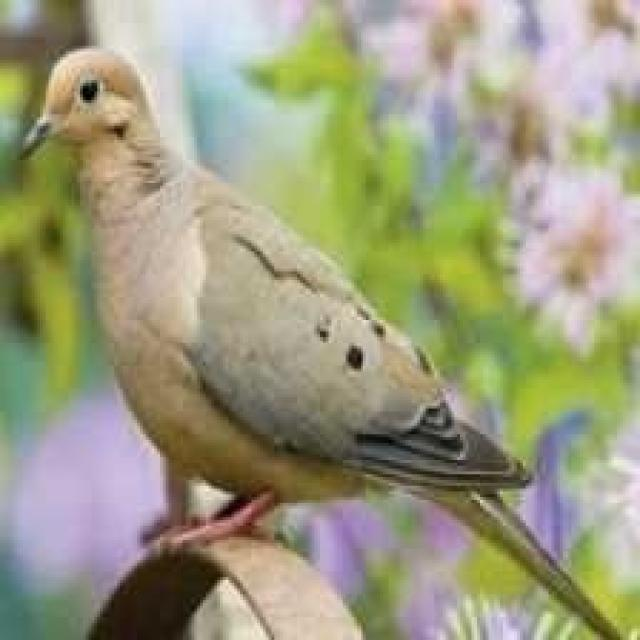bird: (12, 37, 640, 640)
